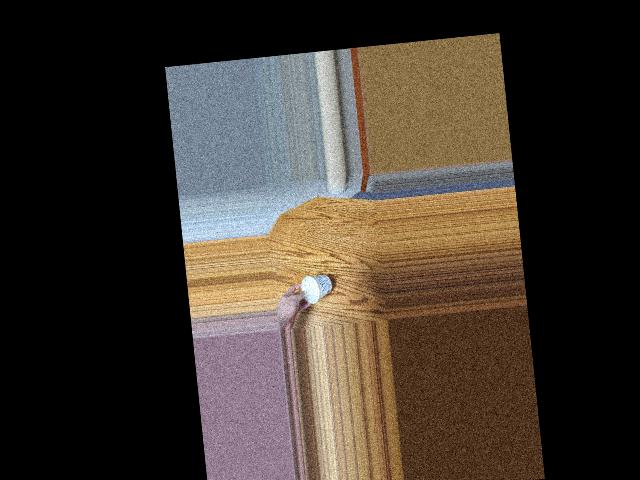cotage: (297, 273, 335, 309)
